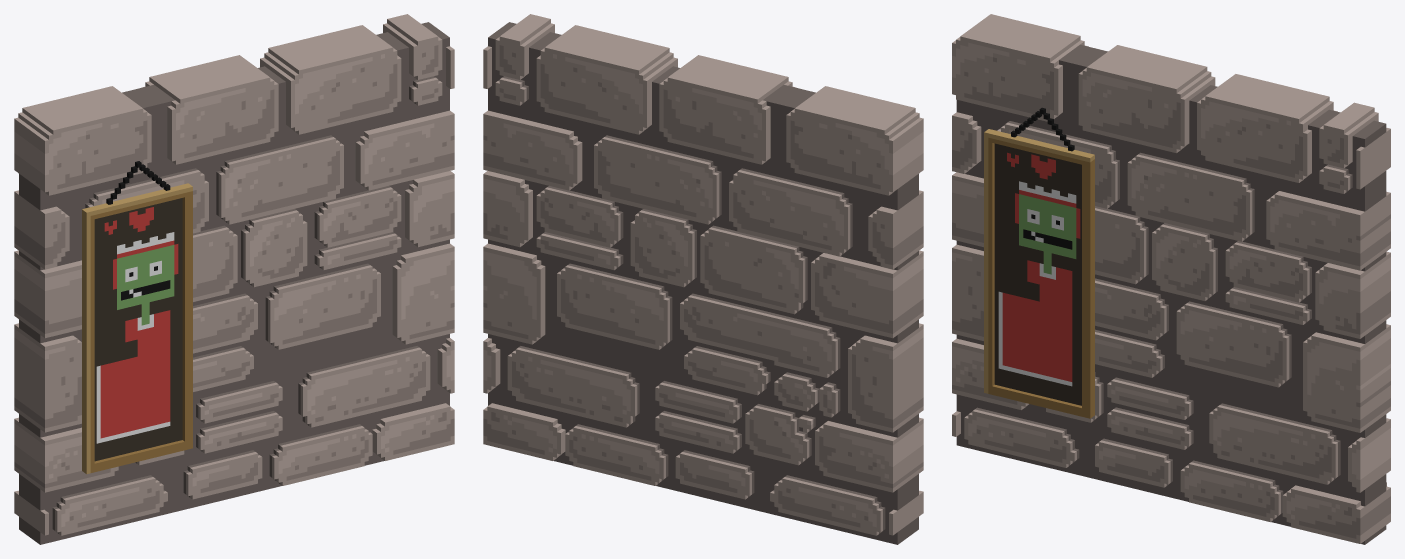
File: GGJ walls 2.2 1.obj
3 renders of one model, left to right at view 1: azimuth 30°, elevation 25°; view 2: azimuth 150°, elevation 25°; view 3: azimuth 330°, elevation 25°, orthographic.
Bounding box in the file's own units: 10 × 9.7 × 1.5.
1 material, 1 textured.
